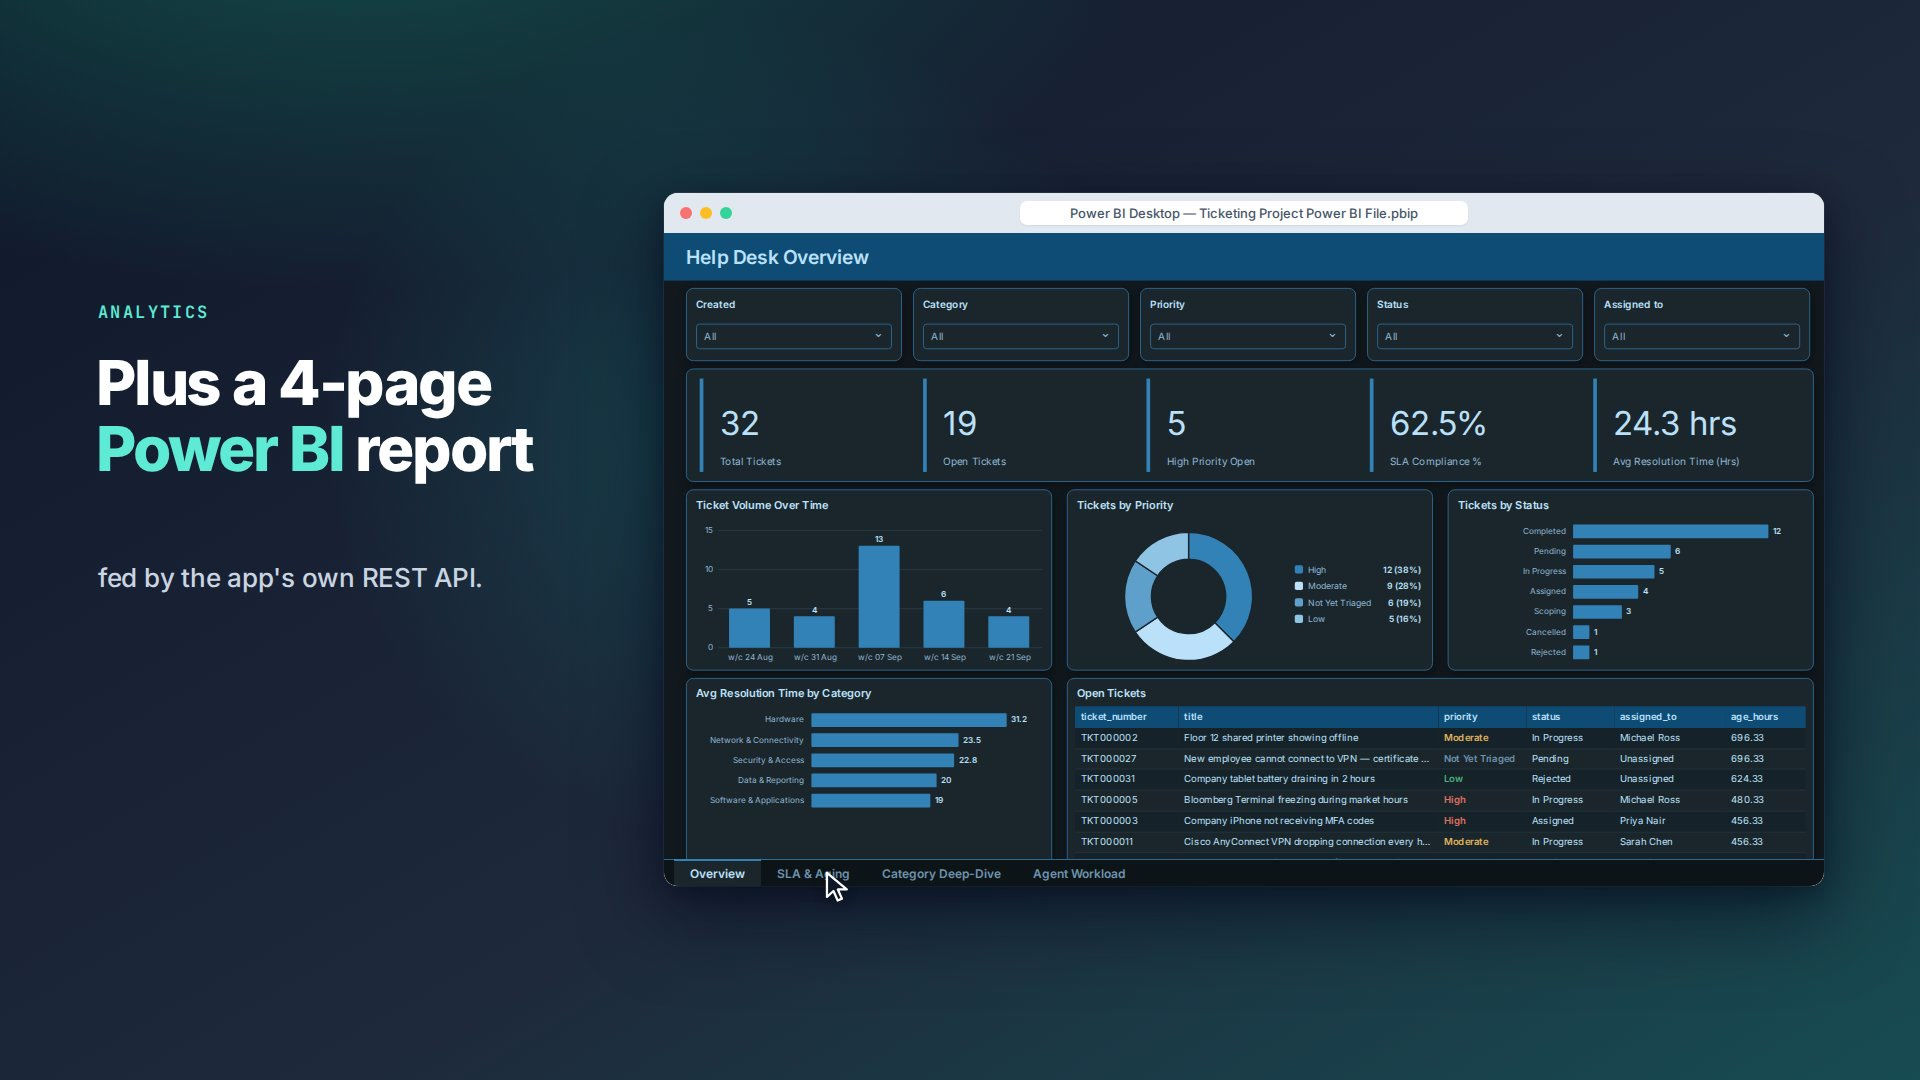

Layout of this report page (visuals, bound fields, positions):
{"tool":"powerbi","page":{"name":"Page 1","canvas":[1280,720],"ordinal":0},"visuals":[{"type":"actionButton","box":[0,0,100,40],"z":0},{"type":"cardVisual","fields":{"Data":["Tickets.SLA Compliance %"]},"box":[369.1,39.5,192.8,100.5],"z":1000},{"type":"cardVisual","fields":{"Data":["Tickets.Total Tickets"]},"box":[50,39.4,148.5,101.5],"z":2000},{"type":"cardVisual","fields":{"Data":["Tickets.Open Tickets"]},"box":[215.9,39.5,153.2,102.2],"z":3000},{"type":"cardVisual","fields":{"Data":["Tickets.Avg Resolution Time (Hrs)"]},"box":[561.9,37.9,243.9,102.2],"z":4000},{"type":"clusteredColumnChart","fields":{"Y":["Tickets.Total Tickets"],"Category":["Tickets.created_at"]},"box":[48.9,174.4,338.1,260],"z":5000},{"type":"donutChart","fields":{"Category":["Tickets.priority"],"Y":["Tickets.Total Tickets"]},"box":[387,174.4,445.1,260],"z":6000},{"type":"clusteredBarChart","fields":{"Category":["Tickets.category"],"Y":["Tickets.Avg Resolution Time (Hrs)"]},"box":[831.6,172.9,445.1,261.6],"z":7000},{"type":"tableEx","fields":{"Values":["Tickets.ticket_number","Tickets.title","Tickets.priority","Tickets.status","Tickets.assigned_to","Tickets.is_sla_breached"]},"box":[50.5,448.2,822.9,261.6],"z":8000}]}

Visuals, with their boxes on the page's 1280x720 design canvas (x1, y1, x2, y2). These are canvas units, not pixel positions in the 1920x1080 screenshot, which may show the page scaled, cropped or inside an application window:
actionButton: [left=0, top=0, right=100, bottom=40]
cardVisual - Tickets.SLA Compliance %: [left=369, top=40, right=562, bottom=140]
cardVisual - Tickets.Total Tickets: [left=50, top=39, right=198, bottom=141]
cardVisual - Tickets.Open Tickets: [left=216, top=40, right=369, bottom=142]
cardVisual - Tickets.Avg Resolution Time (Hrs): [left=562, top=38, right=806, bottom=140]
clusteredColumnChart - Tickets.Total Tickets x Tickets.created_at: [left=49, top=174, right=387, bottom=434]
donutChart - Tickets.priority x Tickets.Total Tickets: [left=387, top=174, right=832, bottom=434]
clusteredBarChart - Tickets.category x Tickets.Avg Resolution Time (Hrs): [left=832, top=173, right=1277, bottom=434]
tableEx - Tickets.ticket_number x Tickets.title: [left=50, top=448, right=873, bottom=710]
